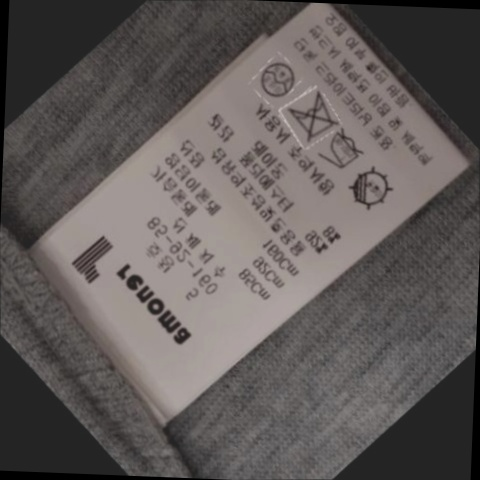DN_wash: (283, 94, 337, 140)
dry_clean_petrol_only: (255, 57, 297, 99)
iron_low: (318, 131, 366, 173)
line_dry_in_shade: (341, 168, 393, 211)
